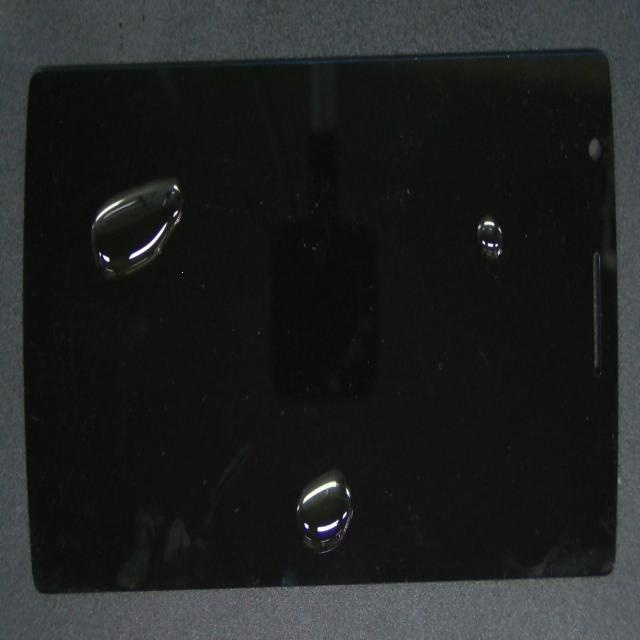oil: (179, 233, 474, 640), (243, 89, 640, 326), (110, 69, 222, 271)
